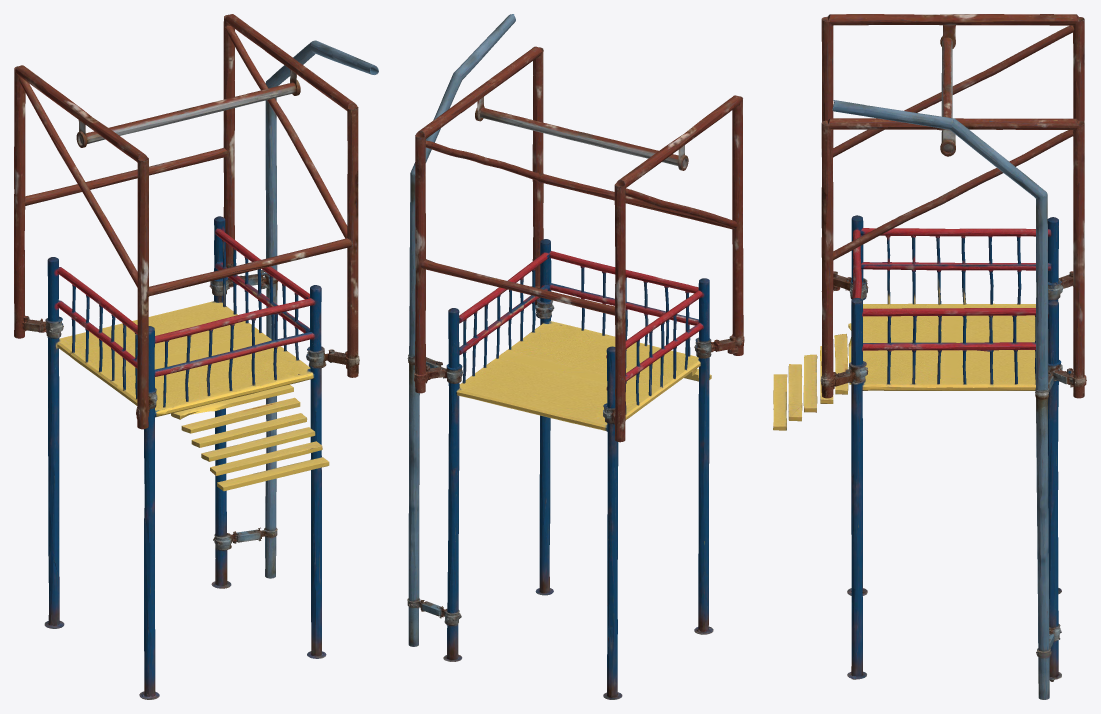
File: modulo_secchio.glb
3 views of the same model, side by side, from view 1: azimuth 30°, elevation 25°; view 2: azimuth 150°, elevation 25°; view 3: azimuth 270°, elevation 25° (orthographic). The views are drawn at different scales.
Visible parts, largest first — view 1: Mesh_0; view 2: Mesh_0; view 3: Mesh_0.
Boxes of the visible parts, x1,y1,x2,y2 form: Mesh_0: (14,14,378,699); Mesh_0: (407,14,744,699); Mesh_0: (773,14,1086,699).
Size of the model in its own units: 0.8326 by 1.91 by 0.9039.
1 material, 1 textured.
